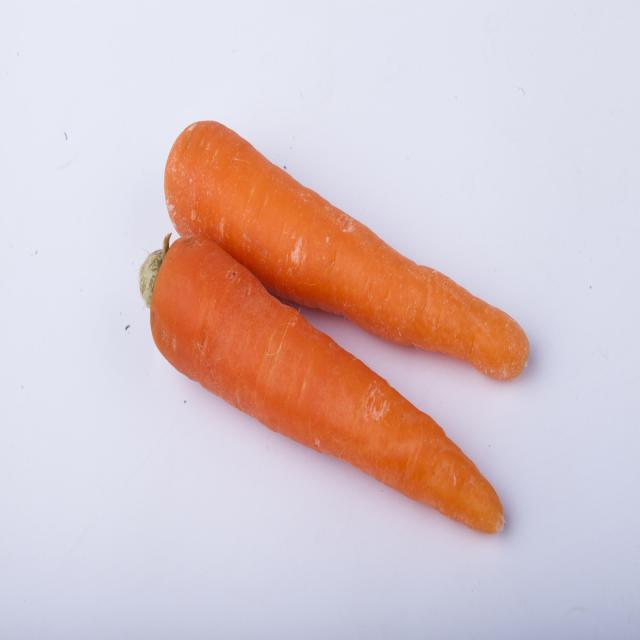Carrot: (137, 238, 515, 534), (160, 119, 539, 389)
